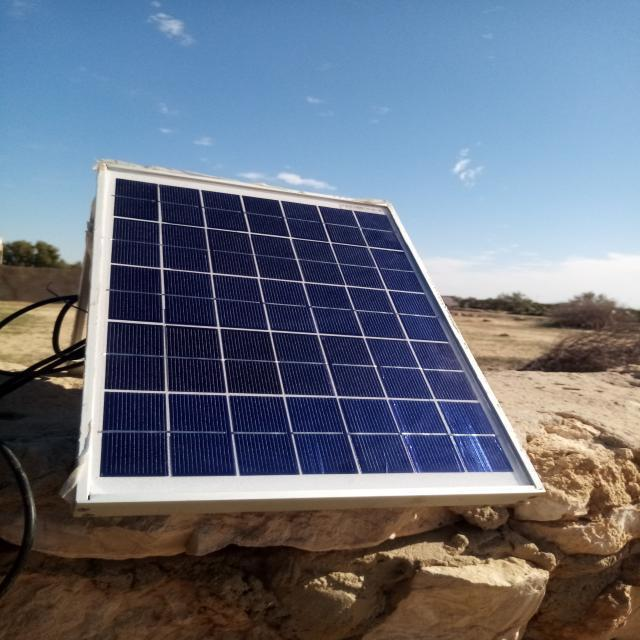Normal Solar Panel: (78, 165, 542, 503)
